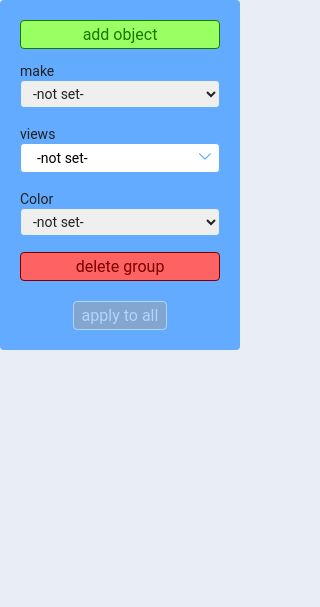
it: select group component base test
The width and height of the screenshot is (320, 607).
Expected: the number of buttons "delete group" is 1, [20,252,220,281]
Step 1. Click the button "add object" → (120, 34), box [20,20,220,49]
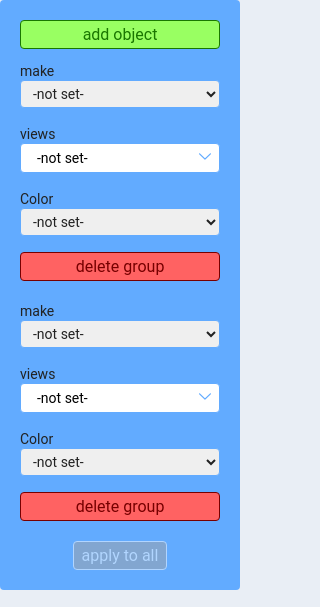
Expected: the number of buttons "delete group" is 2
Expected: the text "-not set-" is shown 6 times
Step 2. Click the 1st button "delete group" → (120, 266), box [20,252,220,281]
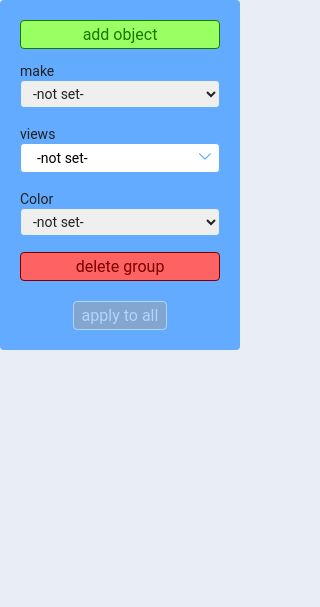
Expected: the number of buttons "delete group" is 1
Step 3. Click the button "delete group" → (120, 266), box [20,252,220,281]
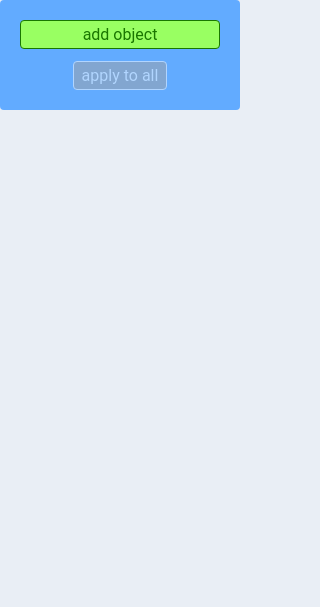
Expected: no buttons "delete group" are shown
